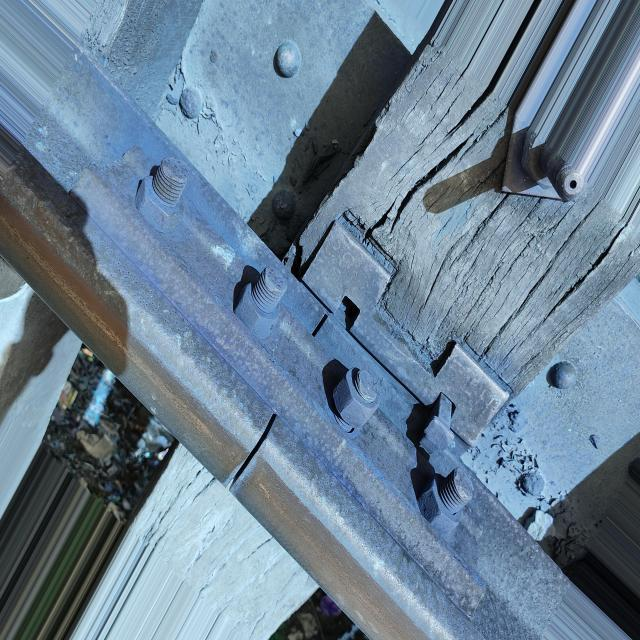Good Joint: (65, 143, 485, 615)
Missing Dogscrew: (333, 296, 360, 332)
